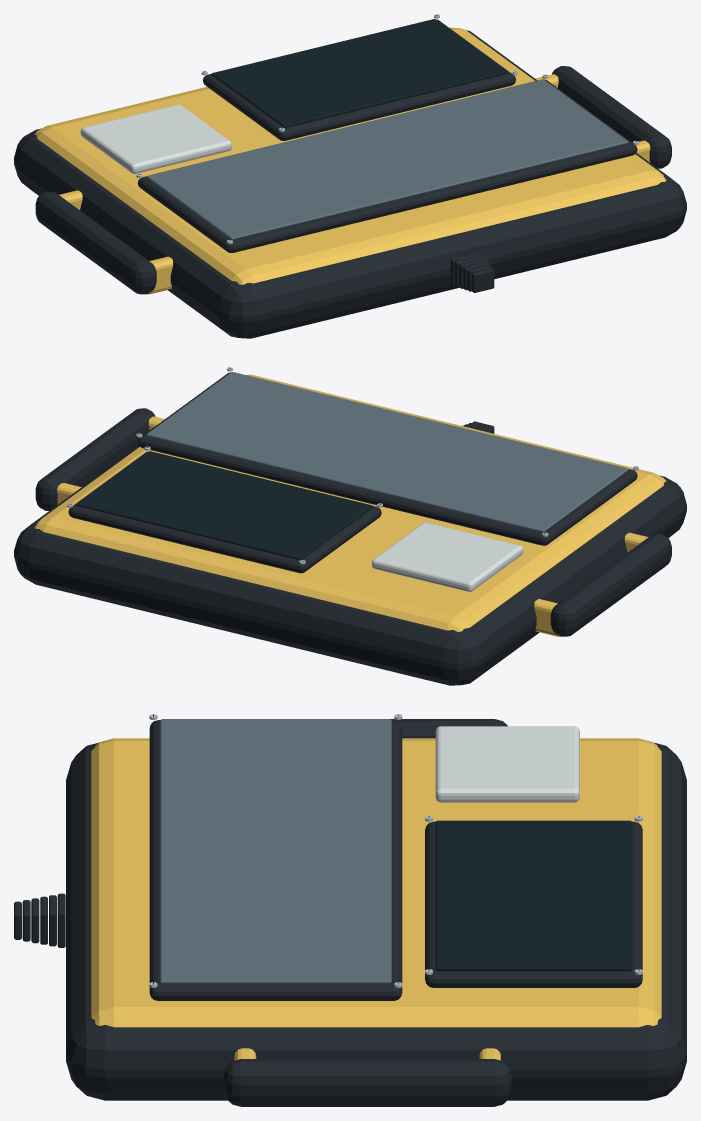
Rendered from pack.glb.
3 renders of one model, top to bottom at view 1: azimuth 30°, elevation 25°; view 2: azimuth 150°, elevation 25°; view 3: azimuth 270°, elevation 25°, orthographic. The views are drawn at different scales.
Parts seen in each view (by area): view 1: deck live content surface.015, Pendant rubber bumper.001, Pendant yellow shell.001, screen live content surface.015, deck mounting bezel.015, Equipment identity plate.015, Side grip.002, screen mounting bezel.015, Side grip.003, Grip connection.004, Cable boot.011; view 2: Pendant rubber bumper.001, deck live content surface.015, Pendant yellow shell.001, screen live content surface.015, deck mounting bezel.015, Equipment identity plate.015, Side grip.002, screen mounting bezel.015, Side grip.003, Grip connection.005; view 3: deck live content surface.015, Pendant yellow shell.001, Pendant rubber bumper.001, screen live content surface.015, Side grip.003, Equipment identity plate.015, deck mounting bezel.015, screen mounting bezel.015, Side grip.002.
Part boxes in pixels (x1,y1,x2,y2): deck live content surface.015: (146, 79, 628, 239); Pendant rubber bumper.001: (14, 30, 686, 338); Pendant yellow shell.001: (34, 27, 666, 284); screen live content surface.015: (211, 19, 507, 127); deck mounting bezel.015: (137, 79, 637, 252); Equipment identity plate.015: (80, 104, 231, 173); Side grip.002: (35, 191, 156, 294); screen mounting bezel.015: (203, 19, 515, 140); Side grip.003: (552, 66, 671, 168); Grip connection.004: (147, 256, 173, 294); Cable boot.011: (471, 268, 494, 292); Pendant rubber bumper.001: (14, 445, 686, 685); deck live content surface.015: (146, 372, 628, 532); Pendant yellow shell.001: (34, 374, 666, 631); screen live content surface.015: (77, 451, 372, 560); deck mounting bezel.015: (137, 372, 637, 545); Equipment identity plate.015: (372, 522, 523, 591); Side grip.002: (550, 534, 671, 636); screen mounting bezel.015: (68, 451, 381, 573); Side grip.003: (35, 408, 155, 510); Grip connection.005: (534, 599, 560, 636); deck live content surface.015: (160, 719, 391, 983); Pendant yellow shell.001: (91, 738, 661, 1027); Pendant rubber bumper.001: (66, 742, 686, 1100); screen live content surface.015: (435, 820, 632, 970); Side grip.003: (223, 1059, 511, 1106); Equipment identity plate.015: (435, 726, 579, 802); deck mounting bezel.015: (149, 720, 402, 1000); screen mounting bezel.015: (425, 821, 642, 987); Side grip.002: (390, 719, 507, 738).
Size of the model in its own units: 9.63 by 1.4 by 7.69.
